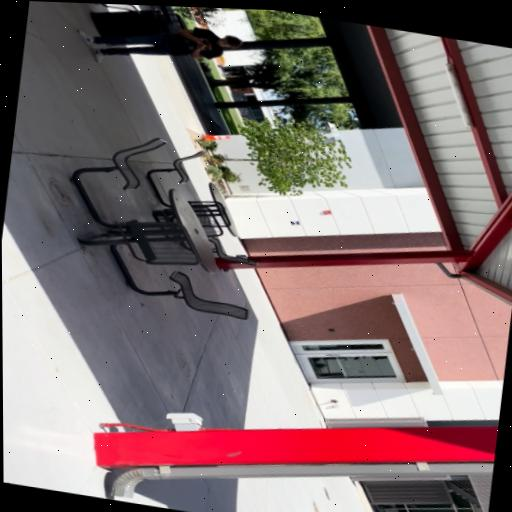target2: (290, 220, 300, 226)
